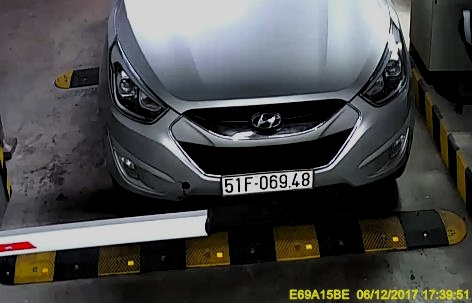plate: (221, 167, 315, 200)
